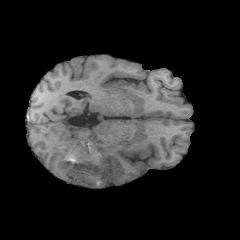glioma: (51, 138, 119, 187)
